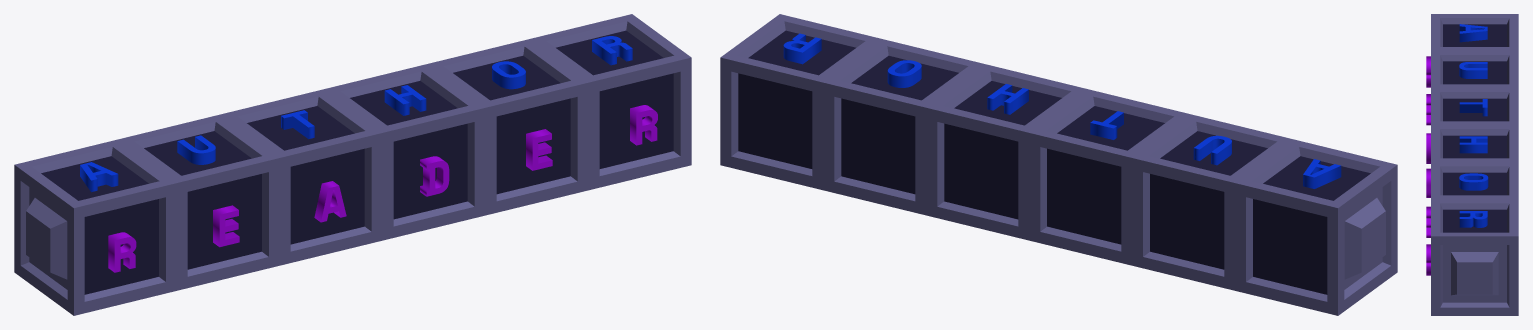
The model's file is roller.glb.
The picture shows the model from 3 angles, left to right: view 1: azimuth 30°, elevation 25°; view 2: azimuth 150°, elevation 25°; view 3: azimuth 270°, elevation 25°; orthographic projection. The views are drawn at different scales.
Parts seen in each view (by area): view 1: Cube, Reader, Author; view 2: Cube, Author; view 3: Cube, Author, Reader.
Boxes of the visible parts, left/top/right/bottom form: Cube: left=14, top=14, right=691, bottom=315; Reader: left=108, top=105, right=657, bottom=272; Author: left=80, top=36, right=632, bottom=192; Cube: left=720, top=14, right=1397, bottom=315; Author: left=783, top=33, right=1341, bottom=188; Cube: left=1431, top=14, right=1518, bottom=315; Author: left=1459, top=24, right=1488, bottom=227; Reader: left=1426, top=56, right=1430, bottom=275.
Size of the model in its own units: 12.23 by 2.16 by 2.11.
